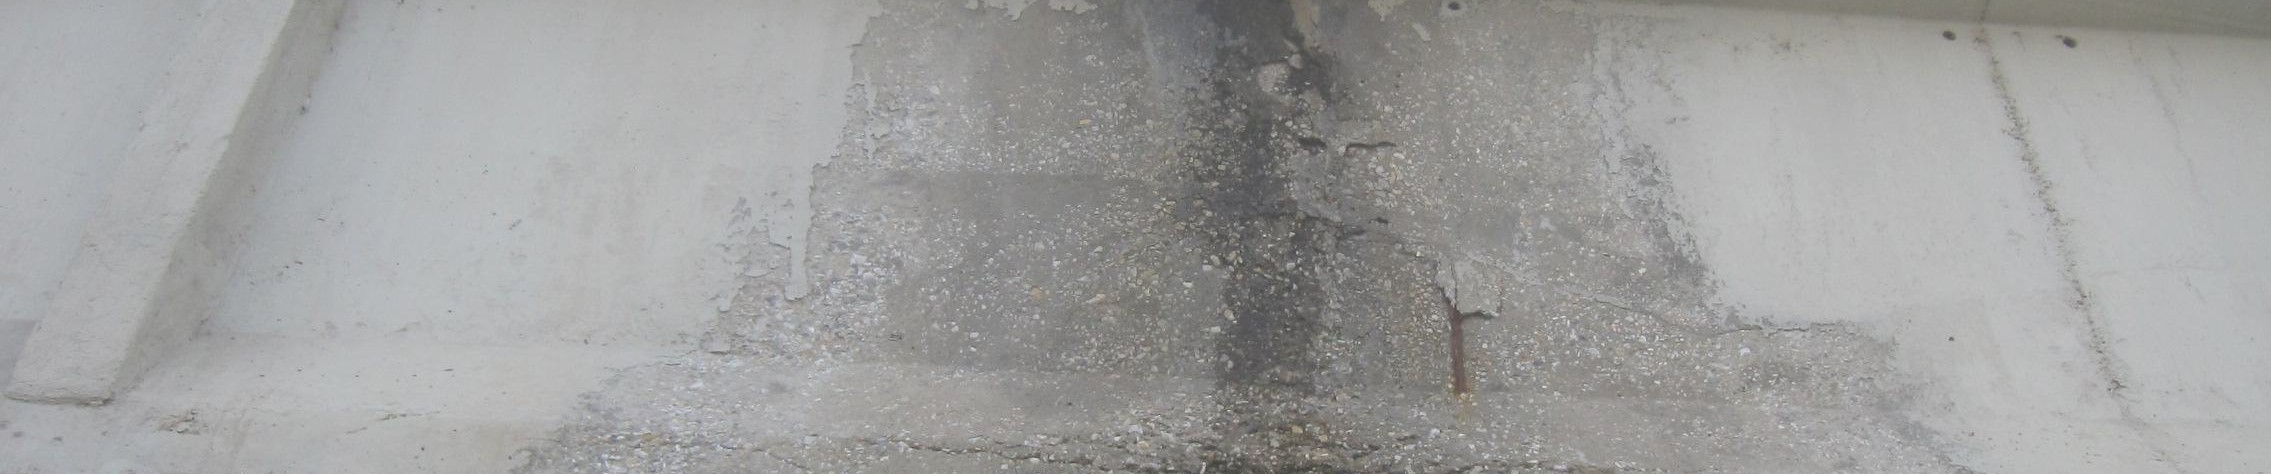Exposed reinforcement: (1447, 300, 1469, 394)
Spalling: (507, 1, 1970, 474)
